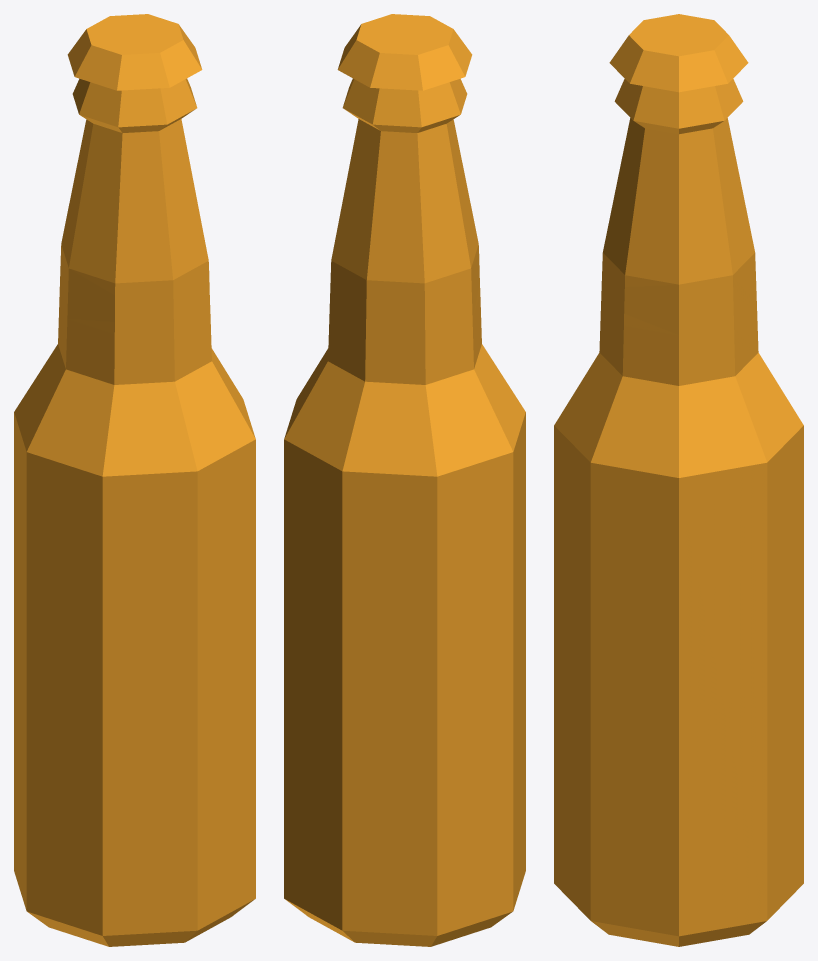
File: SM_Bottle_Beer_Full_4july_B.fbx
The picture shows the model from 3 angles, left to right: view 1: azimuth 30°, elevation 25°; view 2: azimuth 150°, elevation 25°; view 3: azimuth 270°, elevation 25°; orthographic projection.
Visible parts, largest first — view 1: bottle-beer-full-4july-b; view 2: bottle-beer-full-4july-b; view 3: bottle-beer-full-4july-b.
Boxes of the visible parts, x1=… form: bottle-beer-full-4july-b: x1=14, y1=14, x2=255, y2=946; bottle-beer-full-4july-b: x1=284, y1=14, x2=525, y2=946; bottle-beer-full-4july-b: x1=554, y1=14, x2=803, y2=946.
Bounding box in the file's own units: 0.06 × 0.2306 × 0.06.
